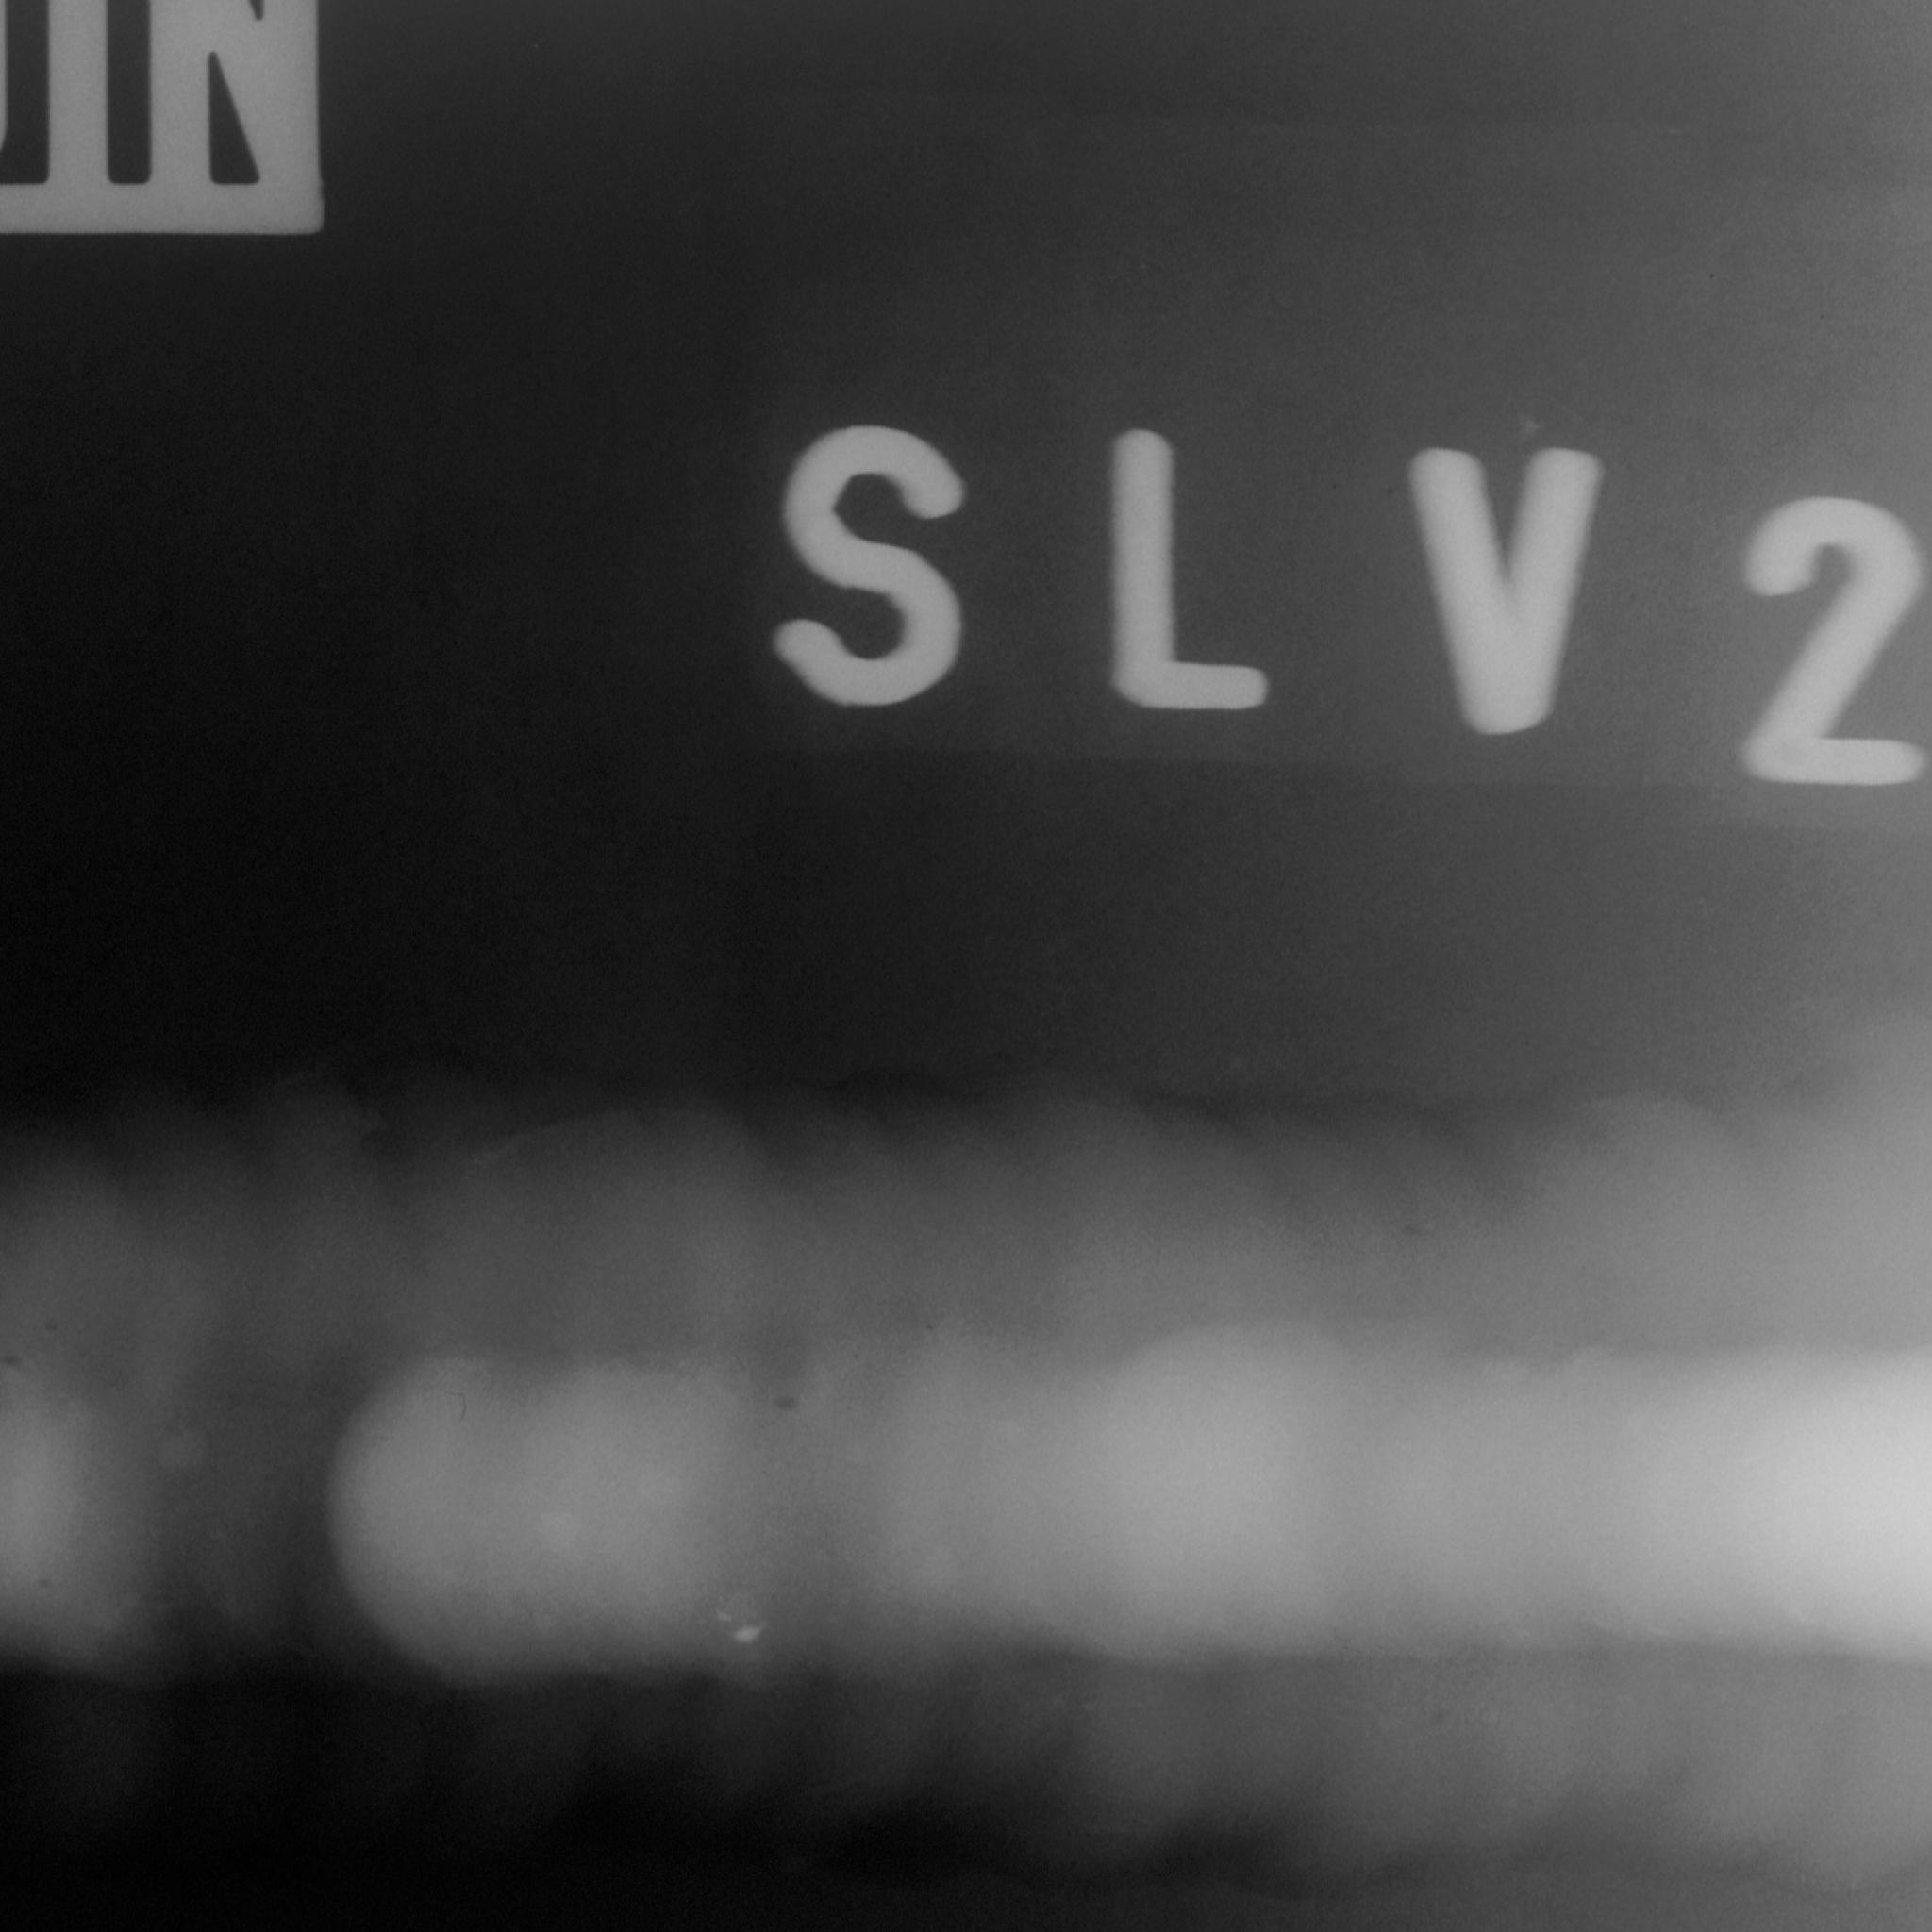FF: (50, 1270, 432, 1755)
PE: (318, 1336, 1932, 1688)
PO: (752, 1382, 814, 1430)
TR: (442, 1382, 472, 1422)
